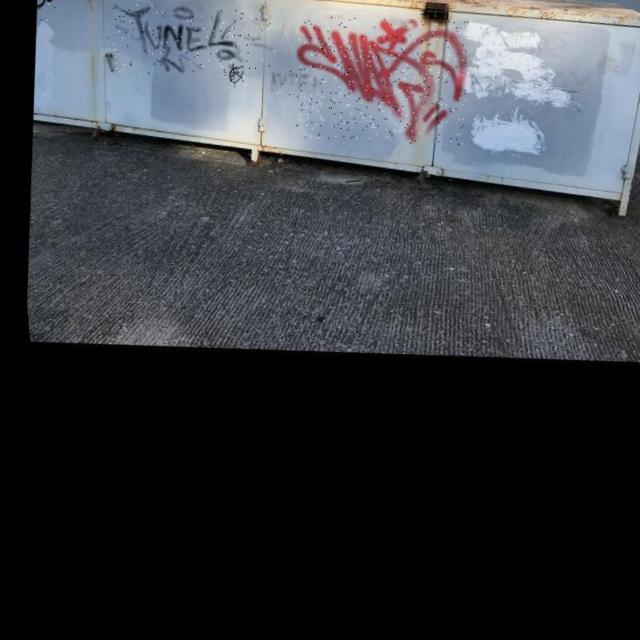-: (282, 8, 476, 165), (104, 0, 280, 93), (266, 71, 320, 105), (220, 65, 247, 94), (34, 0, 59, 25)
